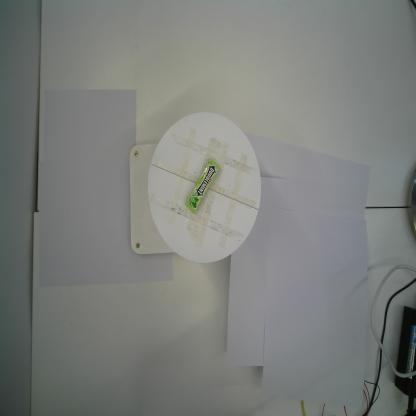Gum: (183, 156, 220, 214)
